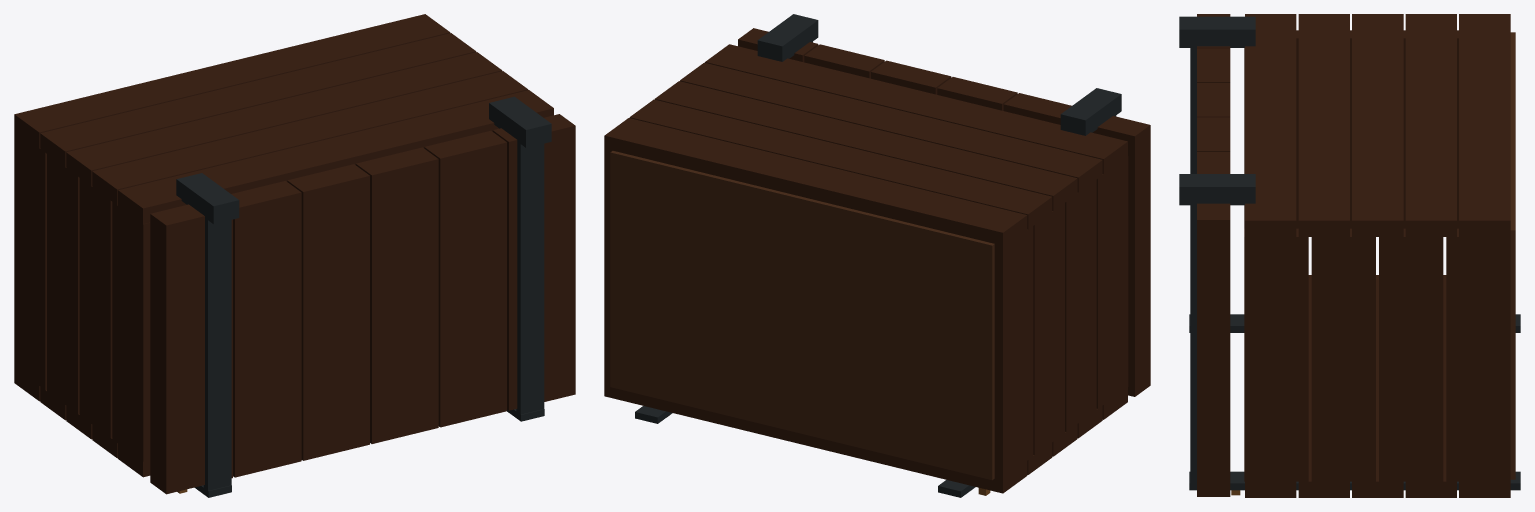
The model's file is Chest_LOD0.obj.
3 renders of one model, left to right at view 1: azimuth 30°, elevation 25°; view 2: azimuth 150°, elevation 25°; view 3: azimuth 270°, elevation 25°, orthographic. The views are drawn at different scales.
Bounding box in the file's own units: 0.96 × 0.69 × 0.67.
